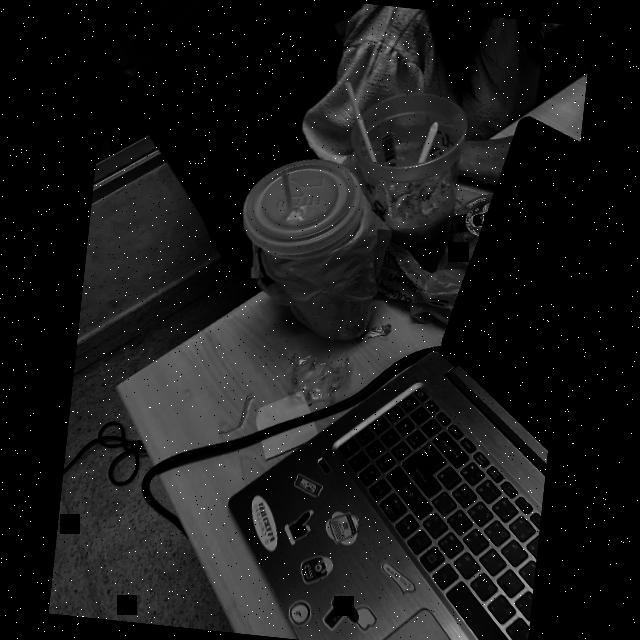plastic_bag: (242, 183, 396, 350), (362, 234, 492, 330)
plastic_cup: (338, 81, 470, 276), (450, 183, 502, 246)
plastic_cup_lid: (235, 144, 368, 264)
plastic_spoon: (404, 116, 442, 166)
scrap_paper: (248, 384, 324, 466)
scrap_plastic: (279, 344, 357, 408), (356, 318, 390, 343)
straw: (334, 80, 388, 162)
